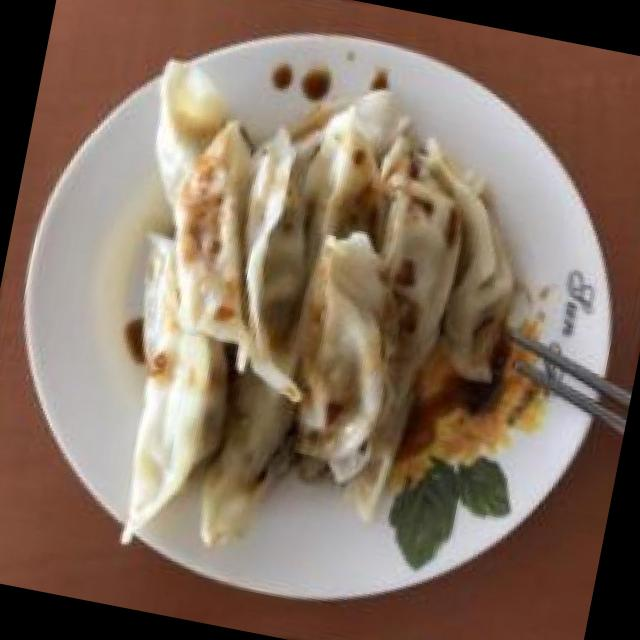fried_dumplings: (66, 42, 552, 609), (270, 226, 426, 502)
